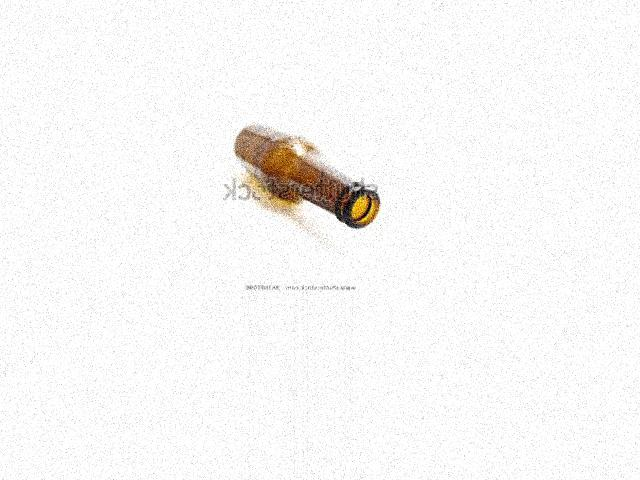beer: (233, 124, 380, 229)
